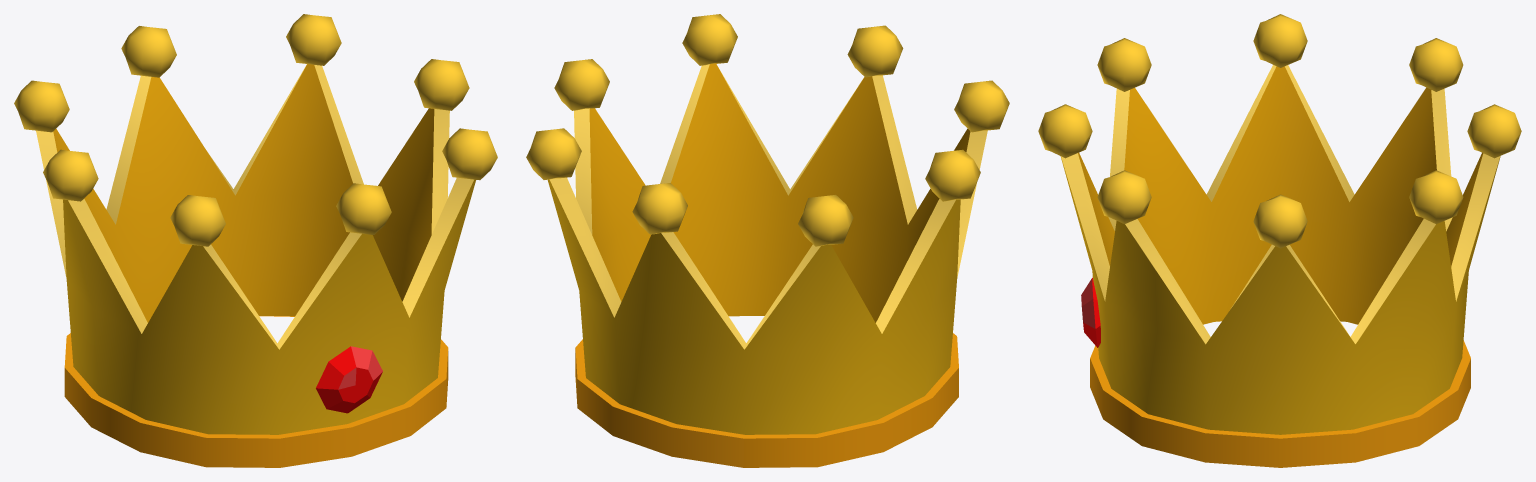
The model's file is wp cap6c.fbx.
The picture shows the model from 3 angles, left to right: view 1: azimuth 30°, elevation 25°; view 2: azimuth 150°, elevation 25°; view 3: azimuth 270°, elevation 25°; orthographic projection.
Parts seen in each view (by area): view 1: wp_cap6c; view 2: wp_cap6c; view 3: wp_cap6c.
Part boxes in pixels (box(x1,y1,x2,y2)): wp_cap6c: box(14, 14, 497, 467); wp_cap6c: box(526, 14, 1009, 467); wp_cap6c: box(1038, 14, 1521, 467).
Size of the model in its own units: 76.43 by 49.19 by 76.7.
Materials: 1 (1 with a texture image).
